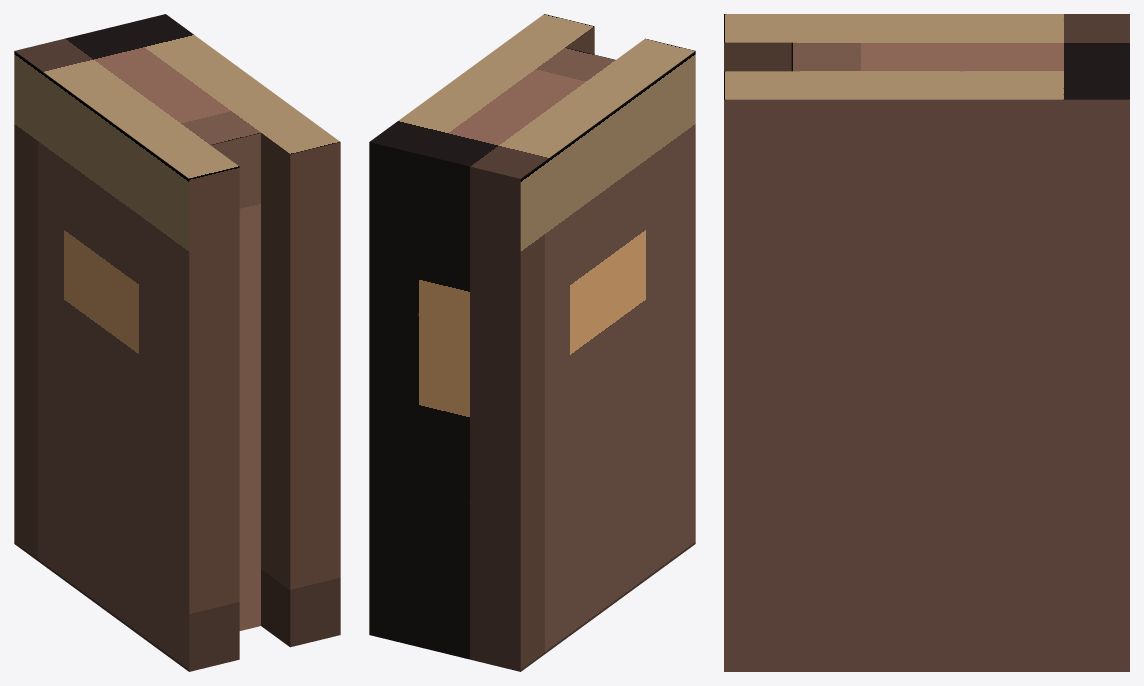
The model's file is book_0x282_29.glb.
The picture shows the model from 3 angles, left to right: view 1: azimuth 30°, elevation 25°; view 2: azimuth 150°, elevation 25°; view 3: azimuth 270°, elevation 25°; orthographic projection. The views are drawn at different scales.
Visible parts, largest first — view 1: Cube.001; view 2: Cube.001; view 3: Cube.001.
Boxes of the visible parts, left/top/right/bottom form: Cube.001: left=14, top=14, right=340, bottom=671; Cube.001: left=369, top=14, right=695, bottom=671; Cube.001: left=724, top=14, right=1129, bottom=671.
Bounding box in the file's own units: 0.1875 × 0.5833 × 0.375.
Materials: 1 (1 with a texture image).
